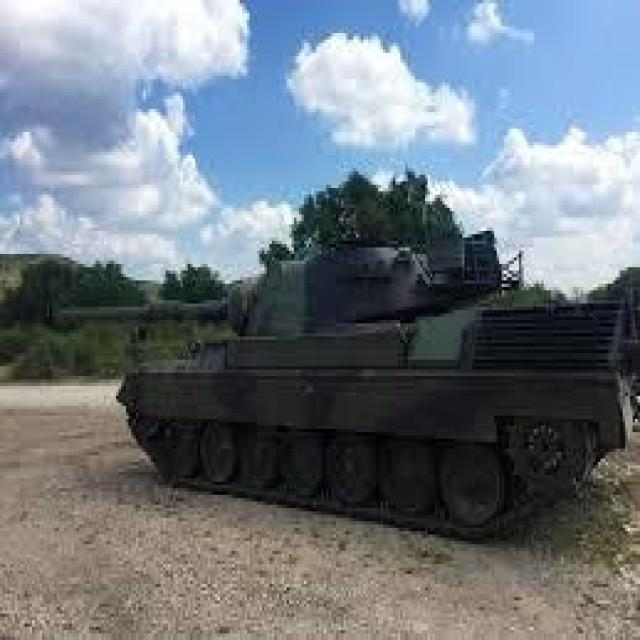MIL_MBT: (98, 134, 575, 579)
